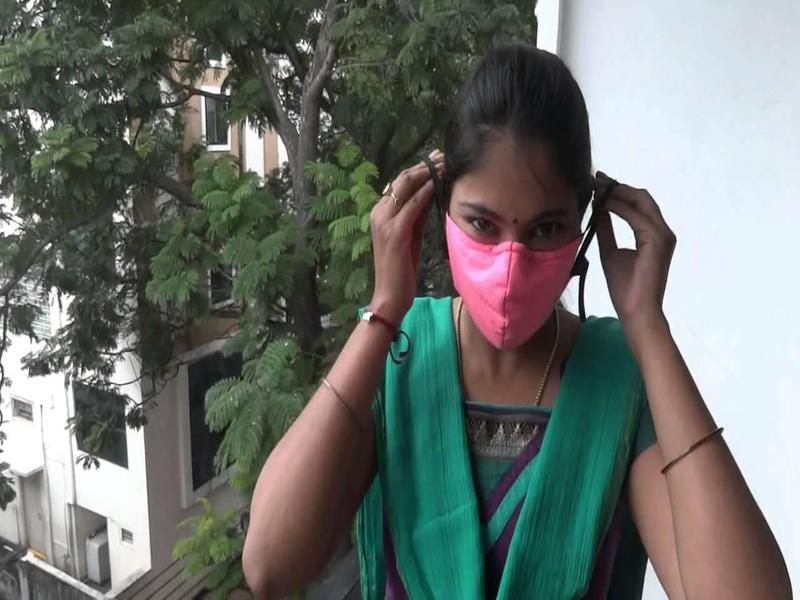with_mask: (438, 123, 595, 356)
